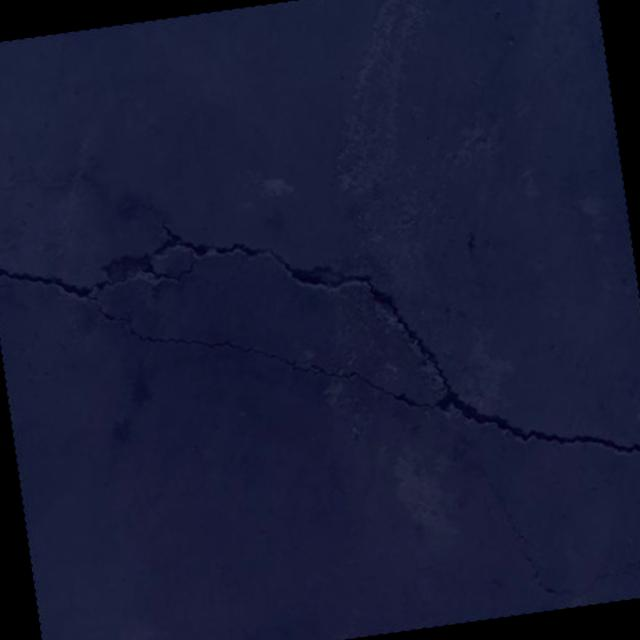crack: (0, 74, 640, 547), (458, 426, 536, 576), (534, 558, 640, 604), (623, 553, 640, 591), (0, 281, 11, 291)
